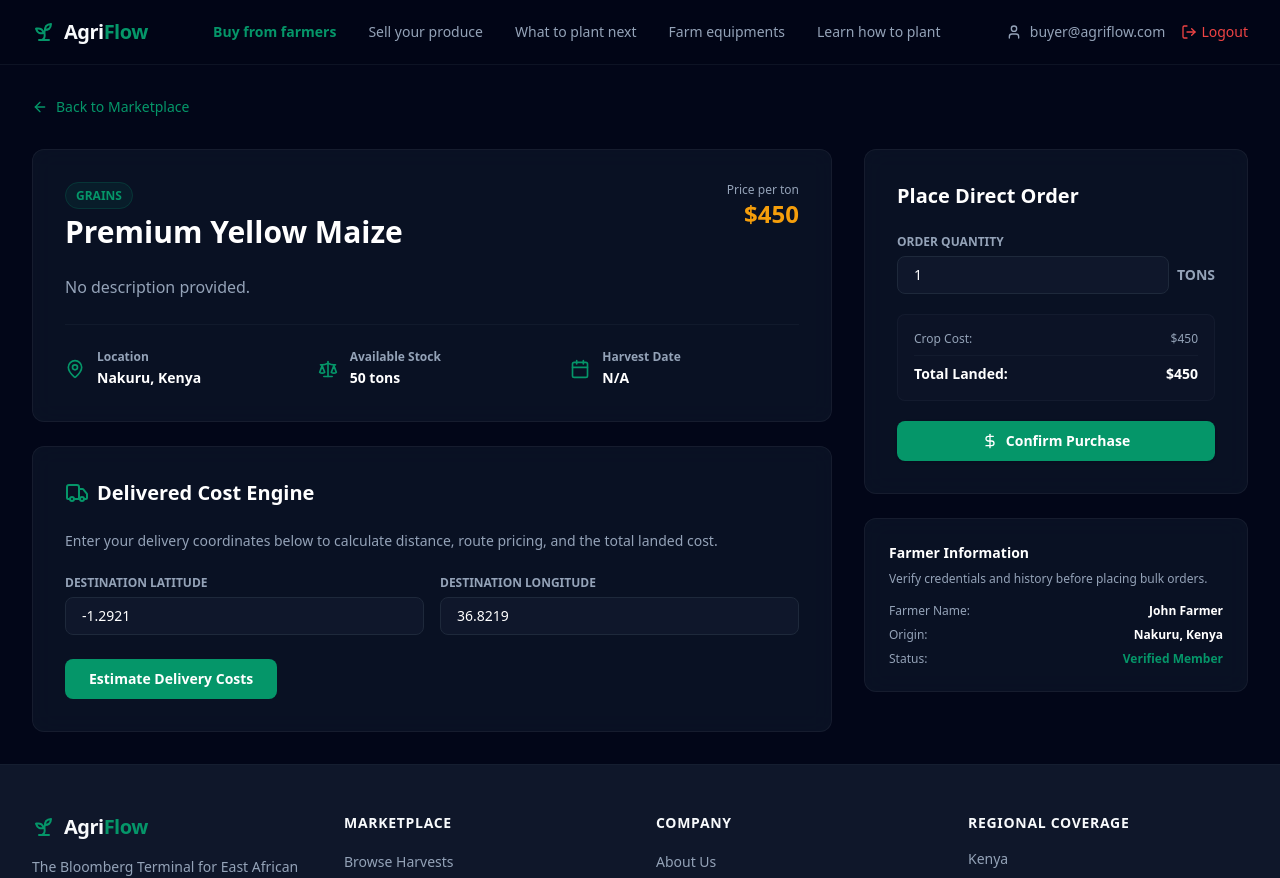
Test case: Order Flow Integration Test › renders product details and verifies calculateLandedCost output reaches DOM end-to-end
Expected: the heading "Premium Yellow Maize" is shown, x1=65 y1=214 x2=403 y2=250
# Trigger transport calculation button
Click the button "Estimate Delivery Costs" at (171, 679), box x1=65 y1=659 x2=277 y2=699
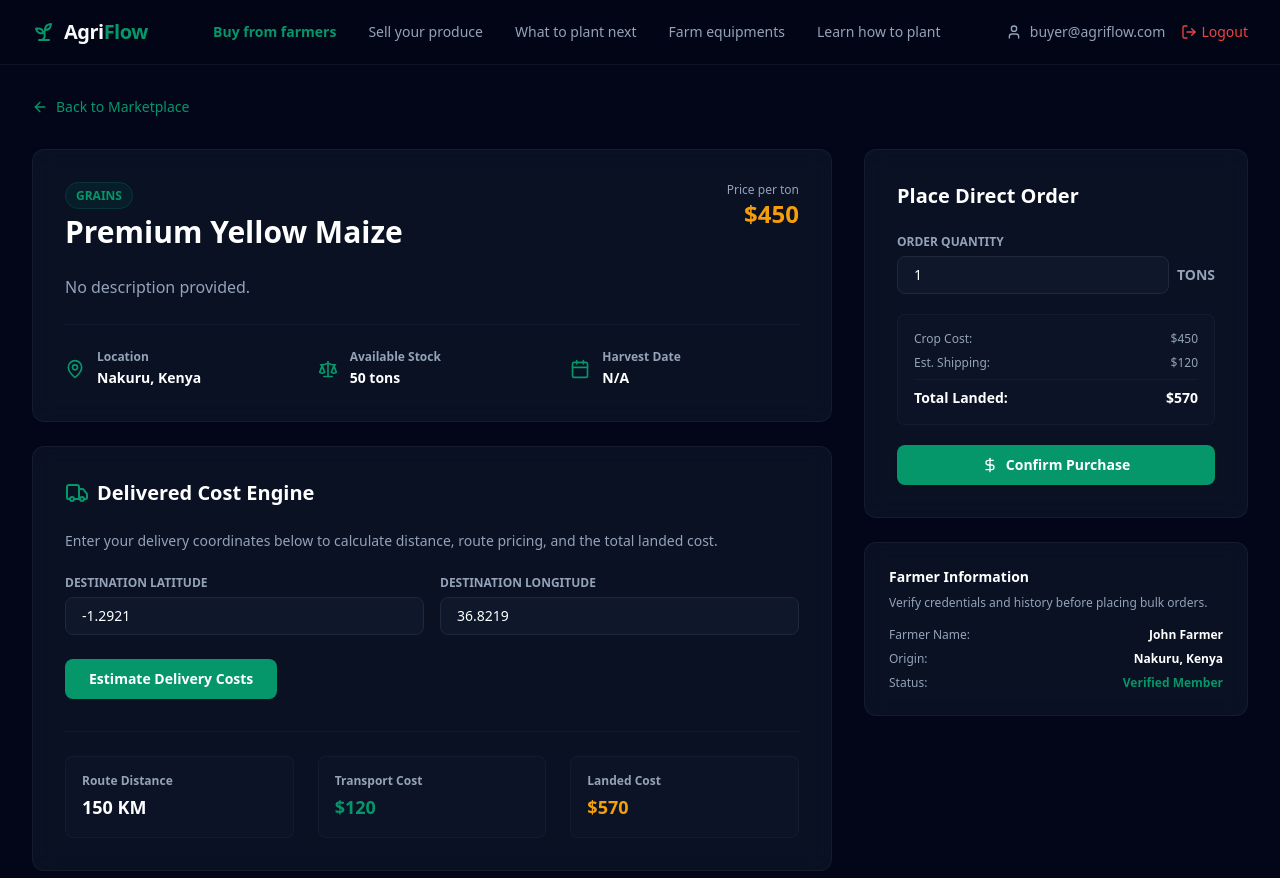
Expected: the text "150 KM" is shown, x1=82 y1=795 x2=146 y2=819
